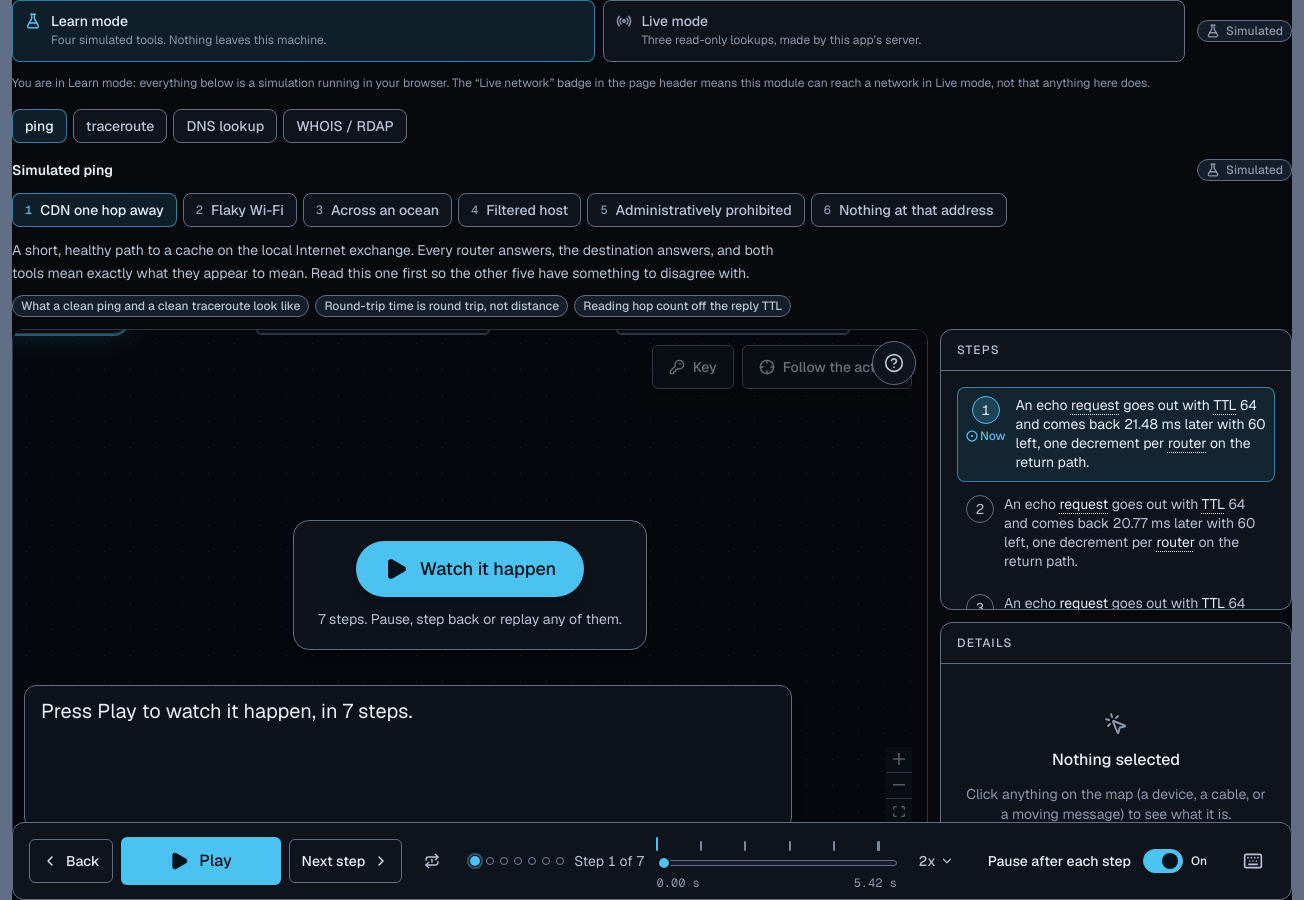
Test case: the corrections each tool exists to make › shows the TTL walk behind a traceroute row, ending in the expiry
Click the button "traceroute" at (120, 126), box [73,109,167,143]
(page scrolled)
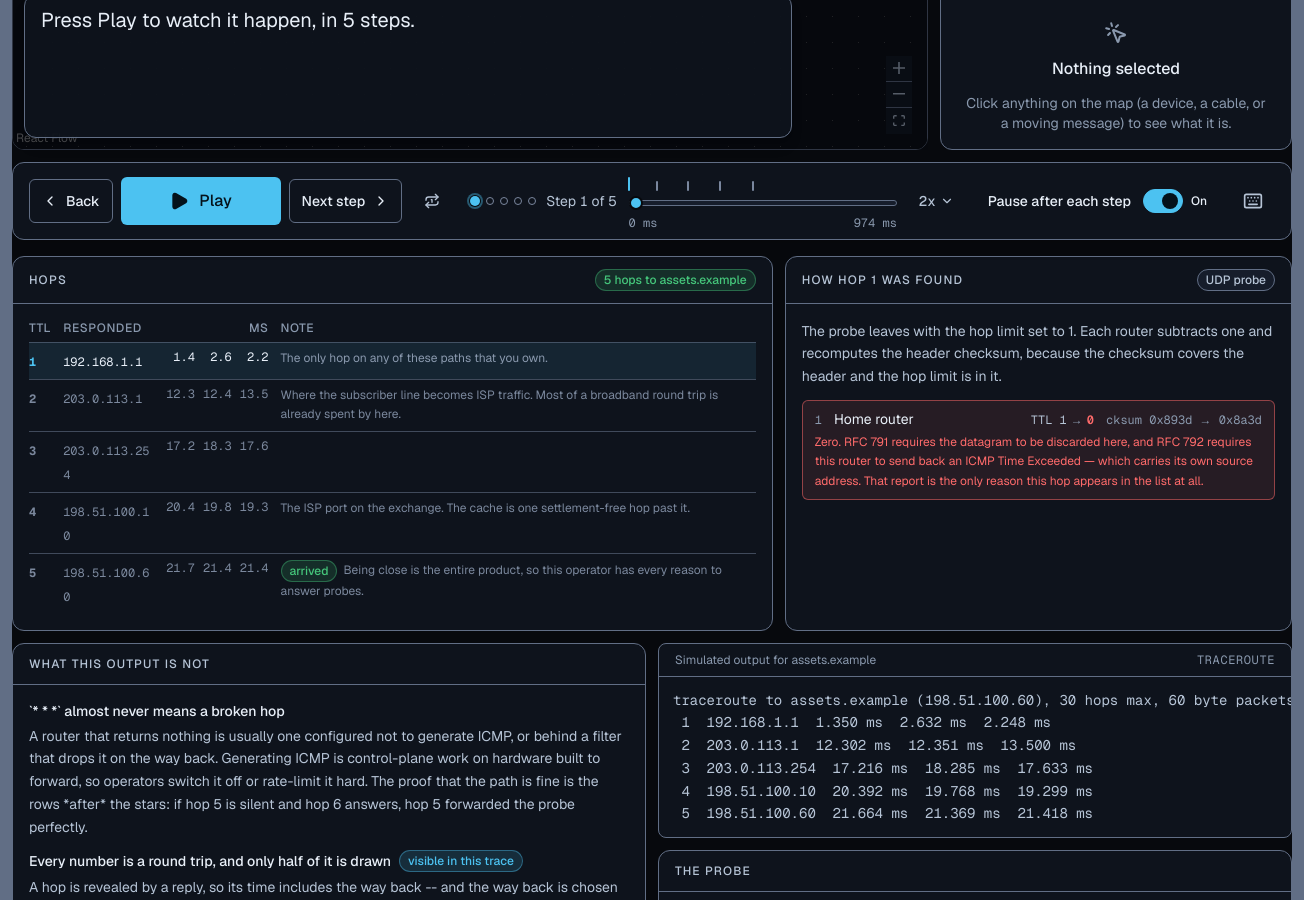
Expected: the heading "How hop 1 was found" is shown, [802,272,963,288]
Expected: the text "RFC 791 requires the datagram to be discarded" is shown, [815,434,1251,469]
Click the button named "Hop 3" at (33, 450), box [29,442,36,458]
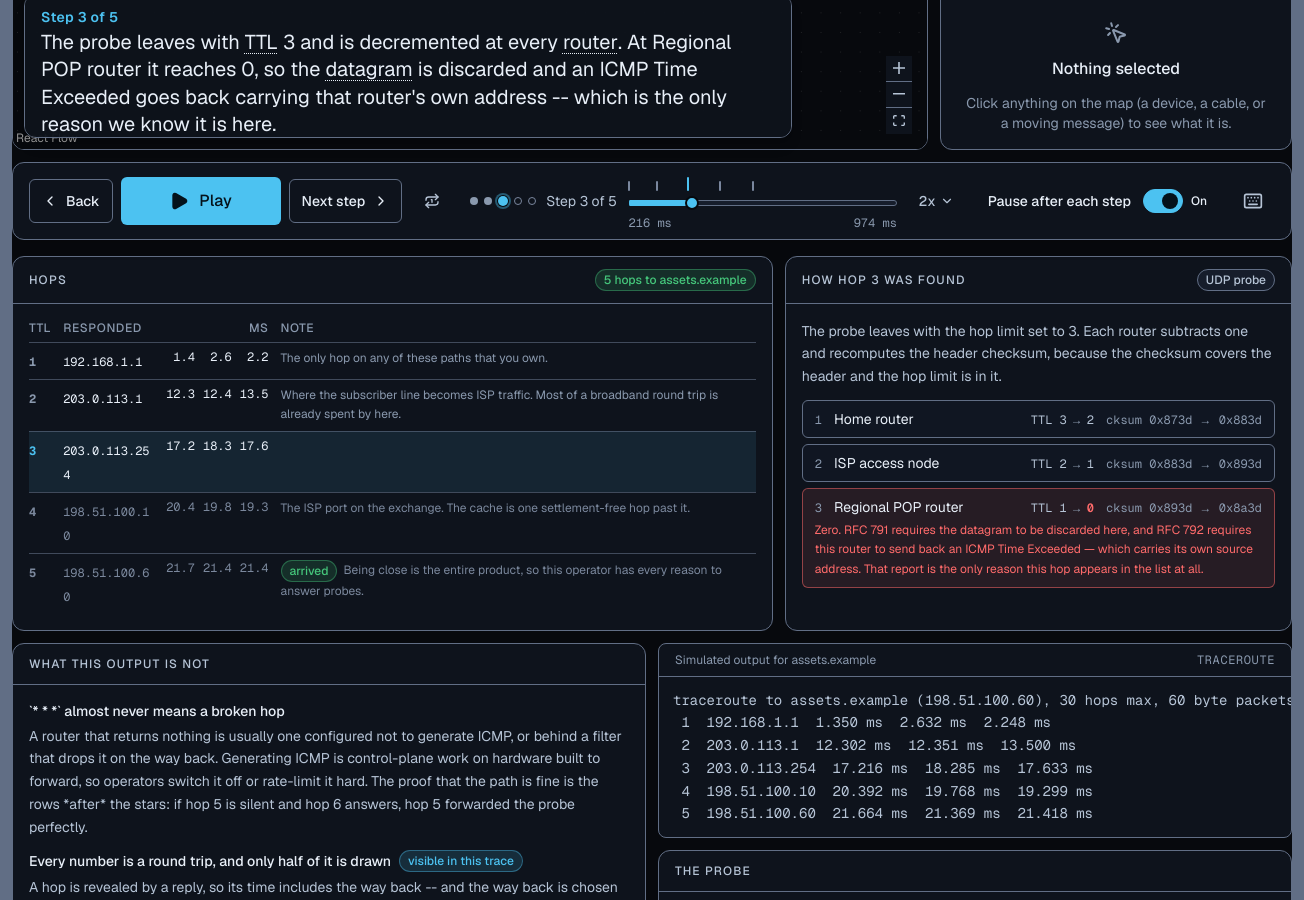
Expected: the heading "How hop 3 was found" is shown, [802,272,966,288]
